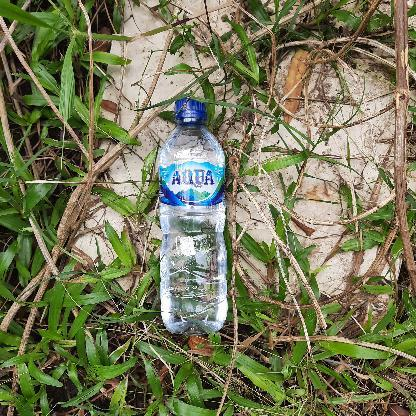Plastic Bottle: (158, 92, 228, 338)
